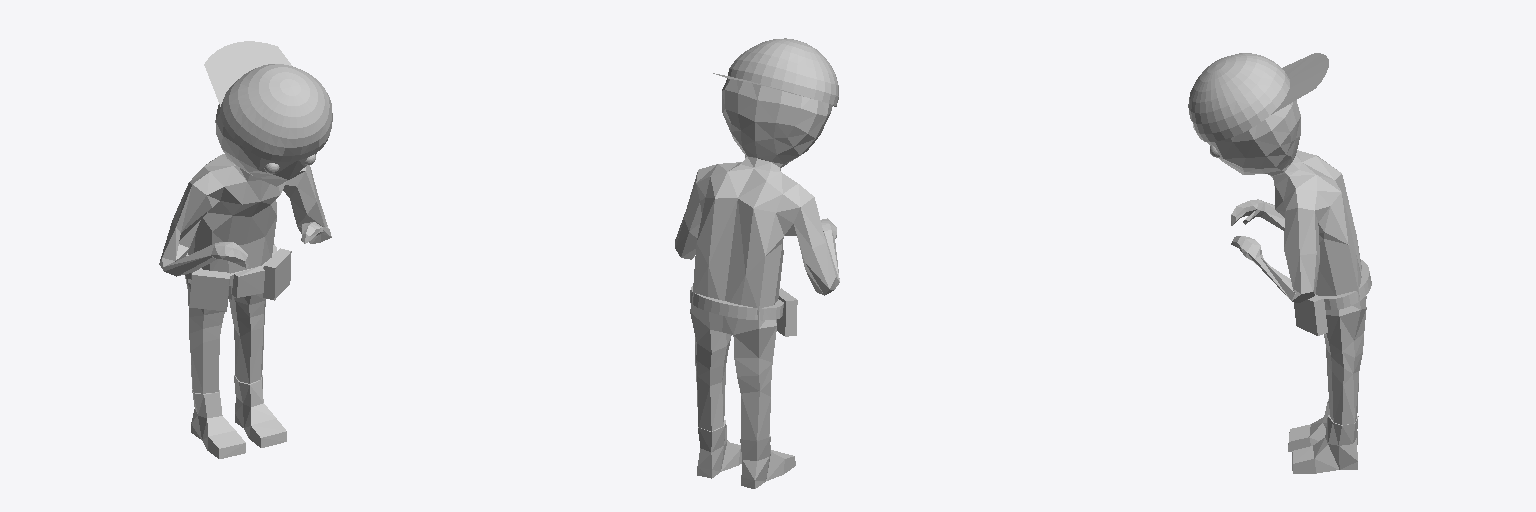
File: Main_Character_Computer_10.obj
3 renders of one model, left to right at view 1: azimuth 30°, elevation 25°; view 2: azimuth 150°, elevation 25°; view 3: azimuth 270°, elevation 25°, orthographic.
Parts seen in each view (by area): view 1: Main_Character_Test.003_Main_Character_Test.004; view 2: Main_Character_Test.003_Main_Character_Test.004; view 3: Main_Character_Test.003_Main_Character_Test.004.
Boxes of the visible parts, box(x1,y1,x2,y2) form: Main_Character_Test.003_Main_Character_Test.004: box(159, 41, 332, 458); Main_Character_Test.003_Main_Character_Test.004: box(675, 38, 839, 488); Main_Character_Test.003_Main_Character_Test.004: box(1188, 53, 1371, 473).
Bounding box in the file's own units: 1.64 × 3.79 × 1.58.